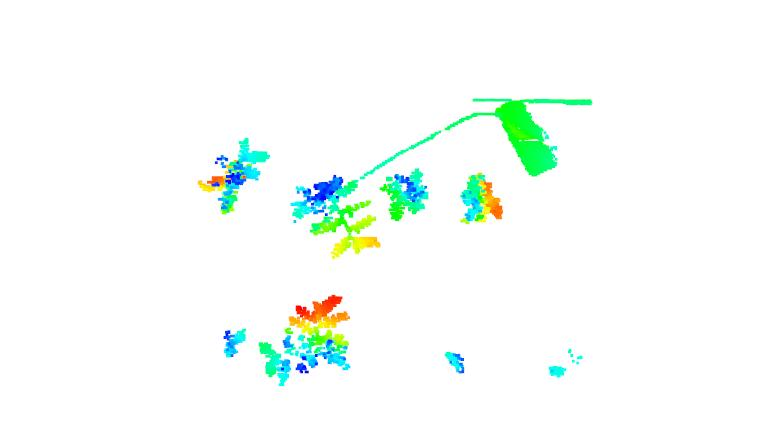chickpea: (256, 294, 354, 383), (286, 179, 383, 255), (200, 128, 274, 212), (378, 165, 441, 225), (454, 169, 512, 234), (541, 343, 605, 392), (213, 316, 251, 362), (438, 349, 472, 382)
